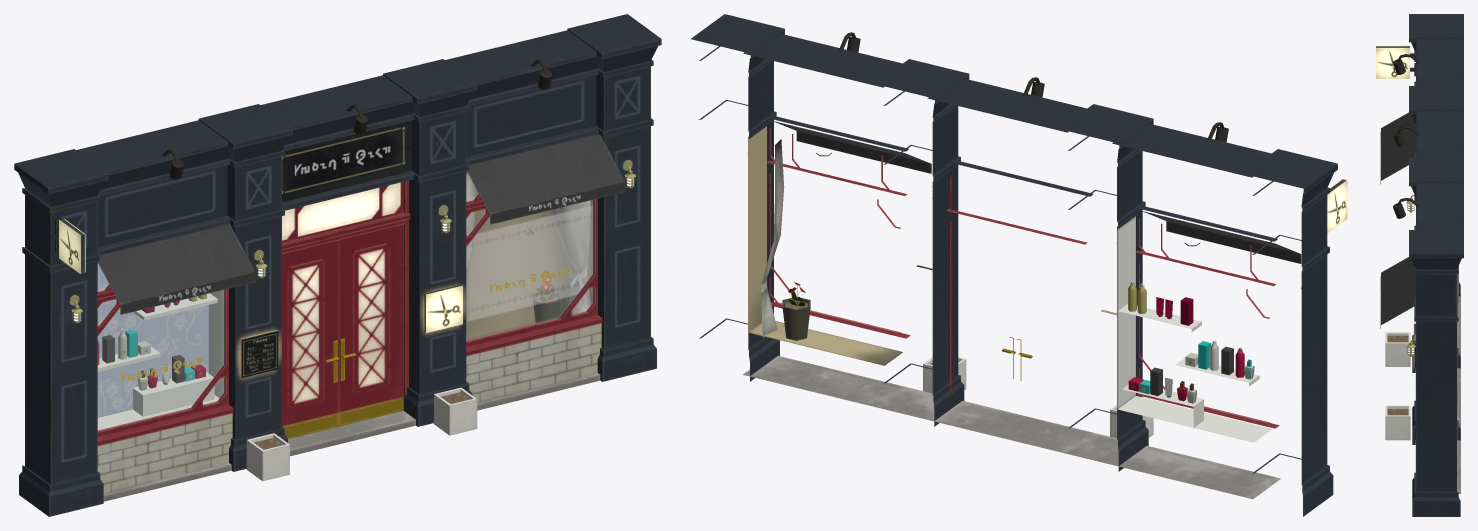
The model's file is t1_b_salon_rouge.glb.
The picture shows the model from 3 angles, left to right: view 1: azimuth 30°, elevation 25°; view 2: azimuth 150°, elevation 25°; view 3: azimuth 270°, elevation 25°; orthographic projection. The views are drawn at different scales.
Visible parts, largest first — view 1: nomerge_t1_b_salon_rouge_mesh; view 2: nomerge_t1_b_salon_rouge_mesh; view 3: nomerge_t1_b_salon_rouge_mesh.
Part boxes in pixels (x1=…): nomerge_t1_b_salon_rouge_mesh: x1=14, y1=14, x2=661, y2=516; nomerge_t1_b_salon_rouge_mesh: x1=691, y1=14, x2=1347, y2=516; nomerge_t1_b_salon_rouge_mesh: x1=1376, y1=14, x2=1463, y2=516.
Bounding box in the file's own units: 8.73 × 4.62 × 1.35.
Materials: 5 (5 with a texture image).
